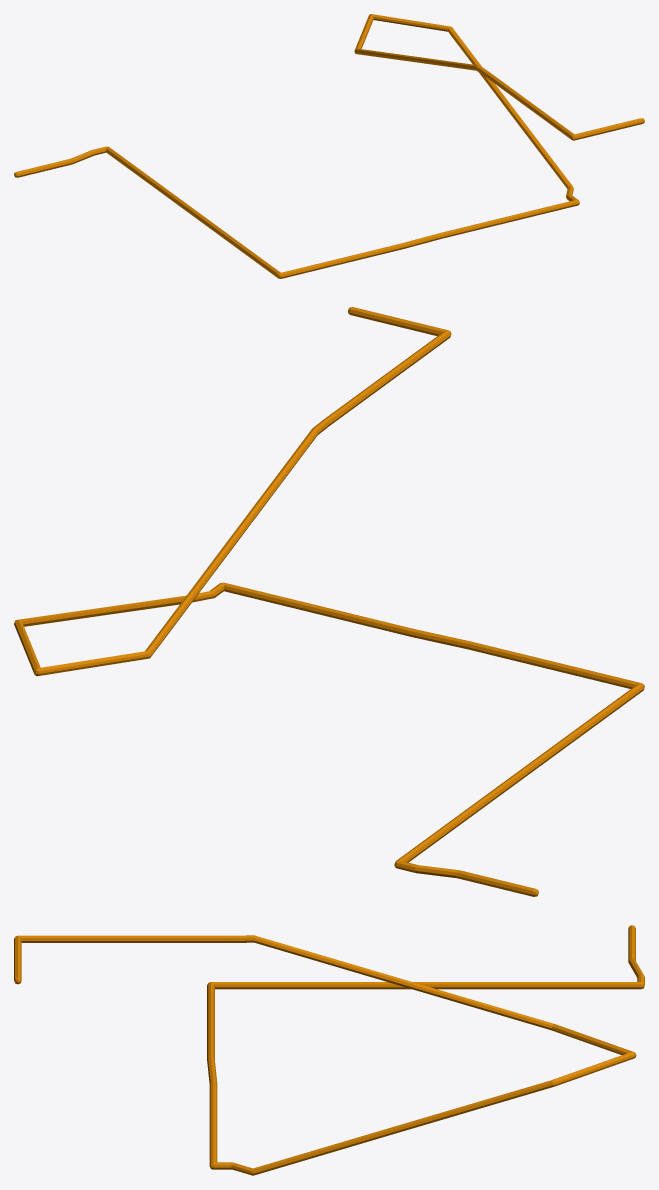
The picture shows the model from 3 angles, top to bottom: view 1: azimuth 30°, elevation 25°; view 2: azimuth 150°, elevation 25°; view 3: azimuth 270°, elevation 25°; orthographic projection. The views are drawn at different scales.
Bounding box in the file's own units: 1492 × 520 × 1614.
